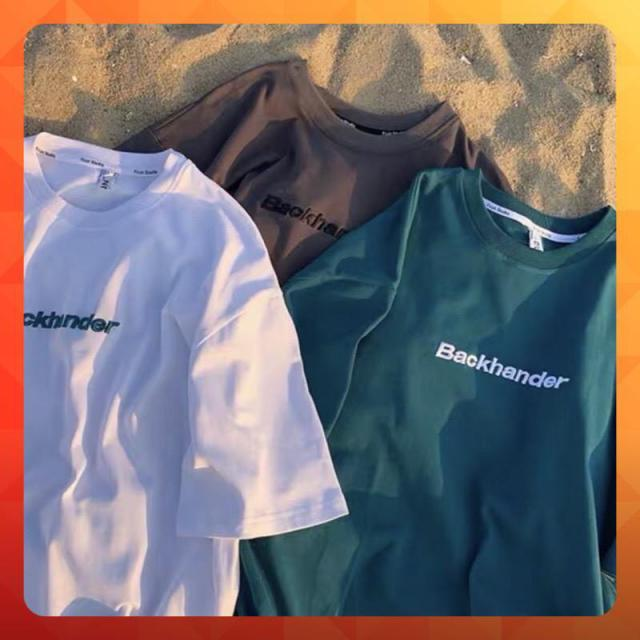Shirt: (26, 140, 347, 614), (286, 166, 614, 618)
